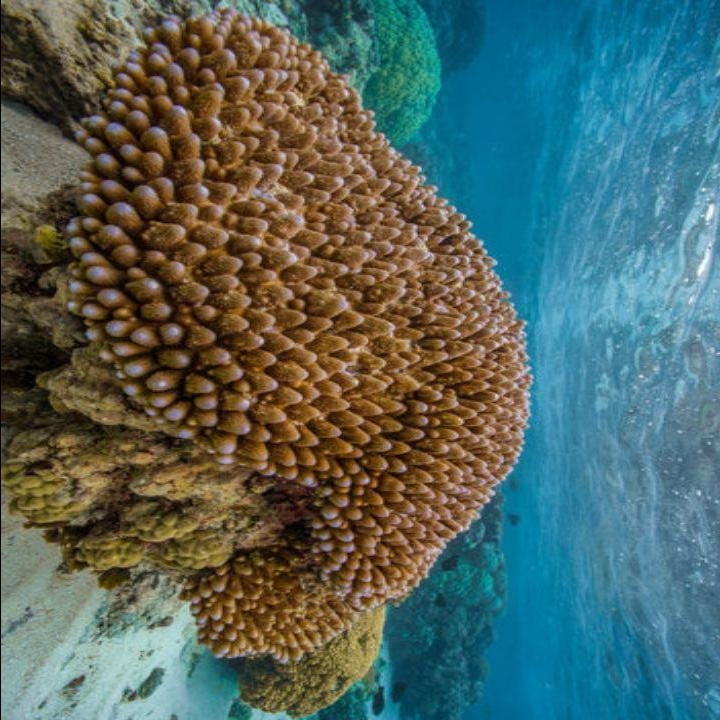Healthy Coral: (28, 20, 539, 719)
